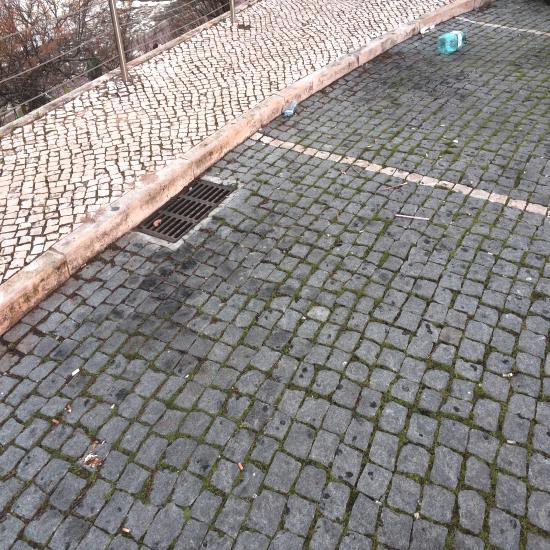Cigarette: (238, 461, 244, 470), (52, 418, 60, 424), (465, 210, 471, 216), (67, 405, 72, 412), (81, 263, 86, 268), (110, 404, 115, 409), (367, 145, 374, 148), (359, 230, 364, 234), (430, 160, 434, 163), (341, 170, 344, 174), (240, 245, 244, 248), (439, 155, 444, 157), (441, 138, 446, 140), (440, 124, 445, 126), (411, 127, 416, 129), (327, 136, 332, 138), (259, 128, 262, 131), (471, 180, 473, 184), (426, 153, 428, 157), (414, 44, 418, 46), (452, 103, 455, 105), (375, 139, 377, 142), (295, 112, 297, 115), (344, 98, 347, 100), (344, 171, 346, 174), (262, 144, 266, 145), (277, 188, 280, 189), (534, 46, 537, 47)
Clear plastic bottle: (438, 30, 467, 54), (284, 101, 298, 117)
